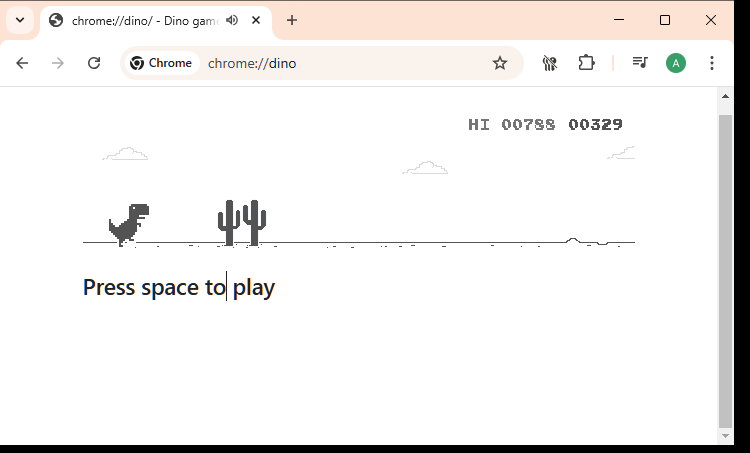cactus: (242, 199, 268, 247), (217, 199, 241, 247)
dino: (108, 203, 150, 248)
